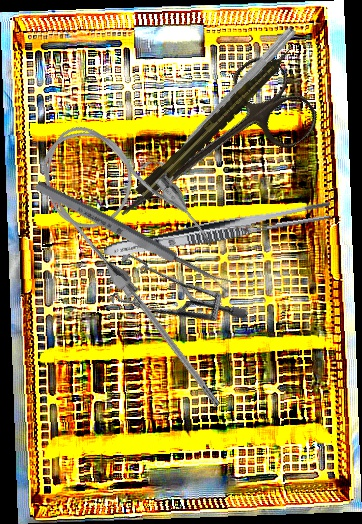Cannula: (16, 98, 222, 311)
Dressing Forceps: (101, 197, 334, 264)
Fixation Ring: (133, 13, 302, 196)
Handpiece: (134, 41, 300, 202)
Hook Surgical: (113, 267, 222, 408)
Iris Scissors: (95, 47, 325, 256)
Speculum: (92, 217, 250, 377)
Surgical Spoon: (33, 178, 234, 295)
